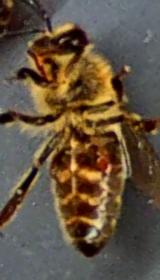varroa_mite: (88, 140, 118, 181)
